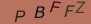B: (34, 5, 45, 20)
F: (63, 4, 76, 18), (48, 1, 62, 13)
P: (13, 9, 26, 24)
Z: (76, 1, 86, 14)
